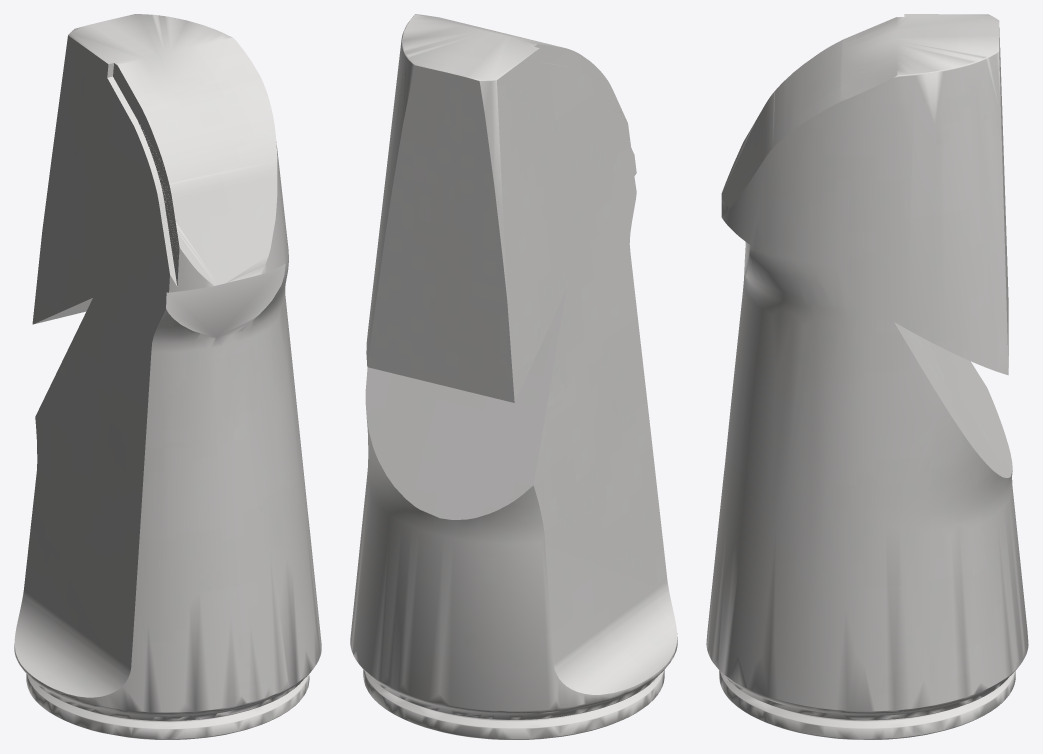
File: knight-white.glb
The picture shows the model from 3 angles, left to right: view 1: azimuth 30°, elevation 25°; view 2: azimuth 150°, elevation 25°; view 3: azimuth 270°, elevation 25°; orthographic projection. The views are drawn at different scales.
Parts seen in each view (by area): view 1: 04_jezdec_bila; view 2: 04_jezdec_bila; view 3: 04_jezdec_bila.
Boxes of the visible parts, x1=… form: 04_jezdec_bila: x1=14, y1=14, x2=321, y2=739; 04_jezdec_bila: x1=350, y1=14, x2=677, y2=739; 04_jezdec_bila: x1=706, y1=14, x2=1028, y2=739.
Size of the model in its own units: 0.6396 by 1.41 by 0.6396.
Materials: 1 (1 with a texture image).
